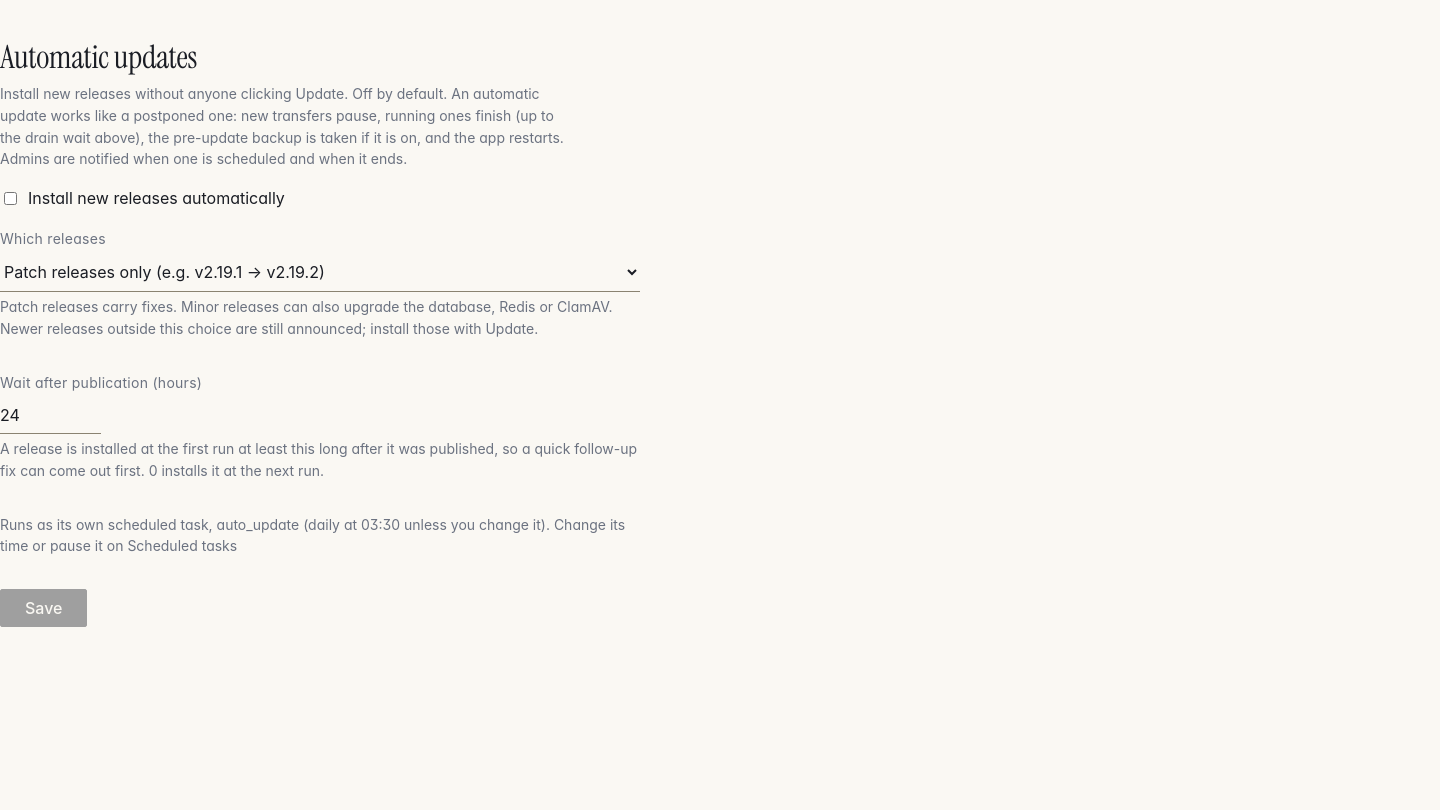
Test: AutoUpdateSection › shows a wrong password inside the dialog and keeps it open
Click the checkbox with test id "auto-update-enabled" at (10, 198), box [4,192,17,205]
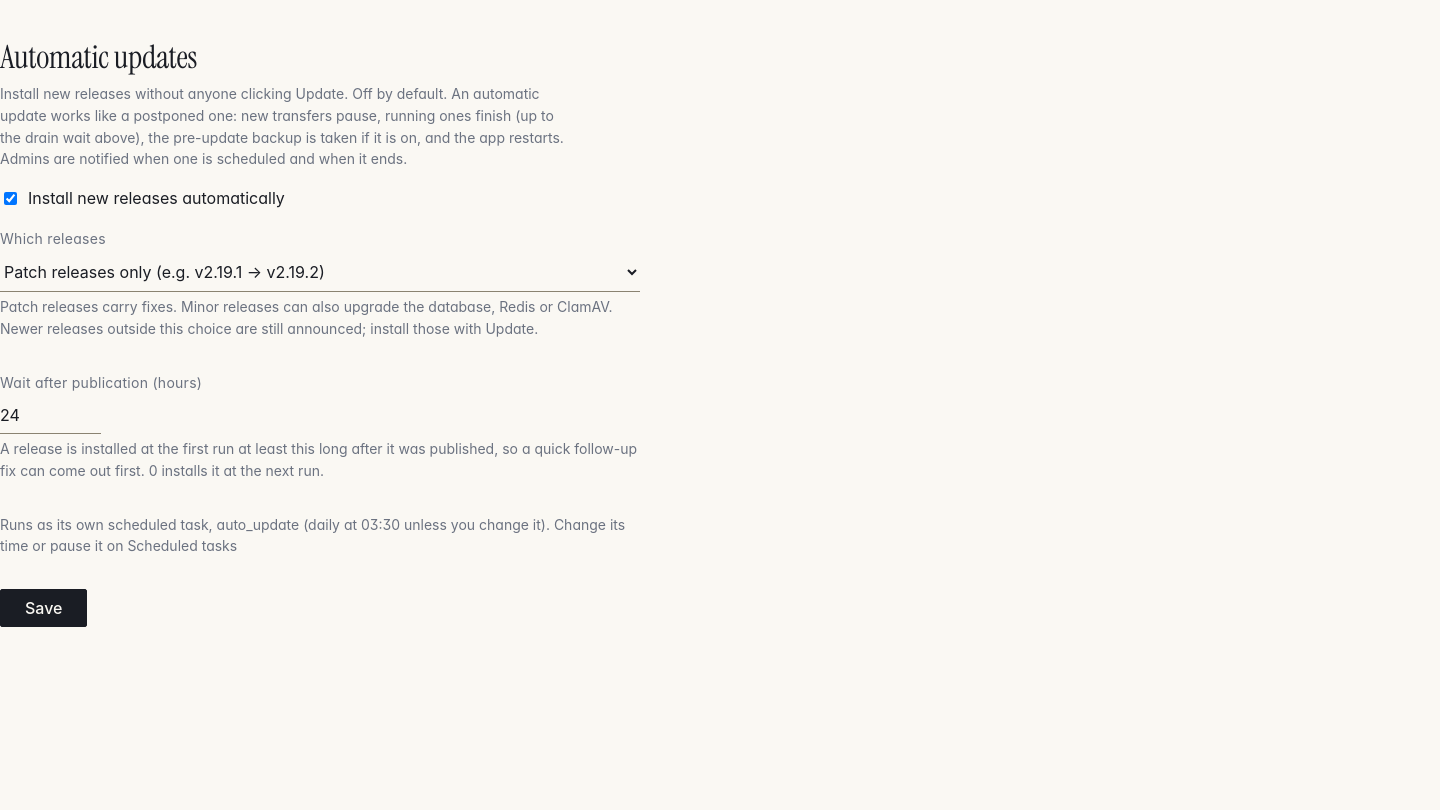
Submit the form, box [0,186,640,627]
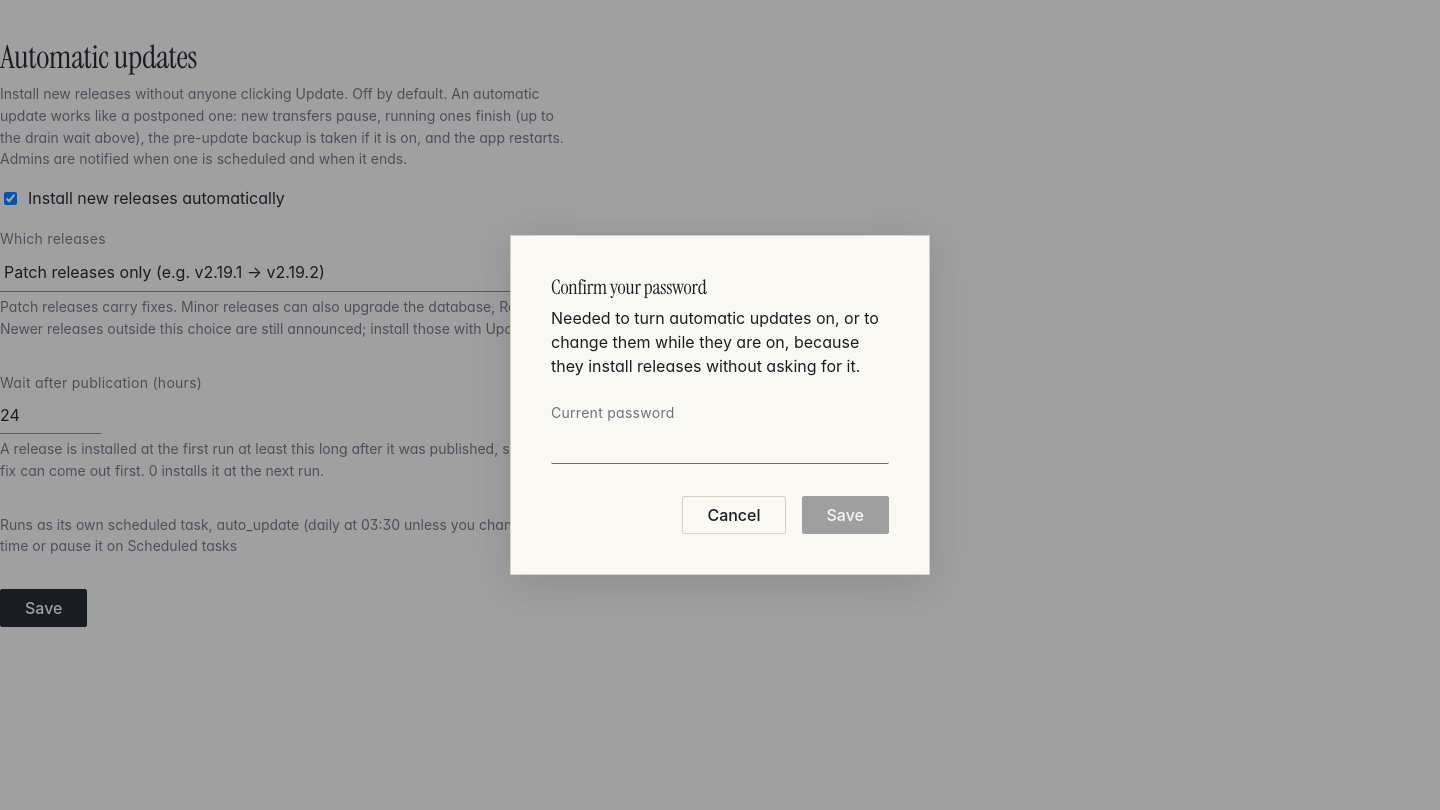
Type "nope" into the password field with test id "step-up-password" at (720, 446), box [551,427,889,464]
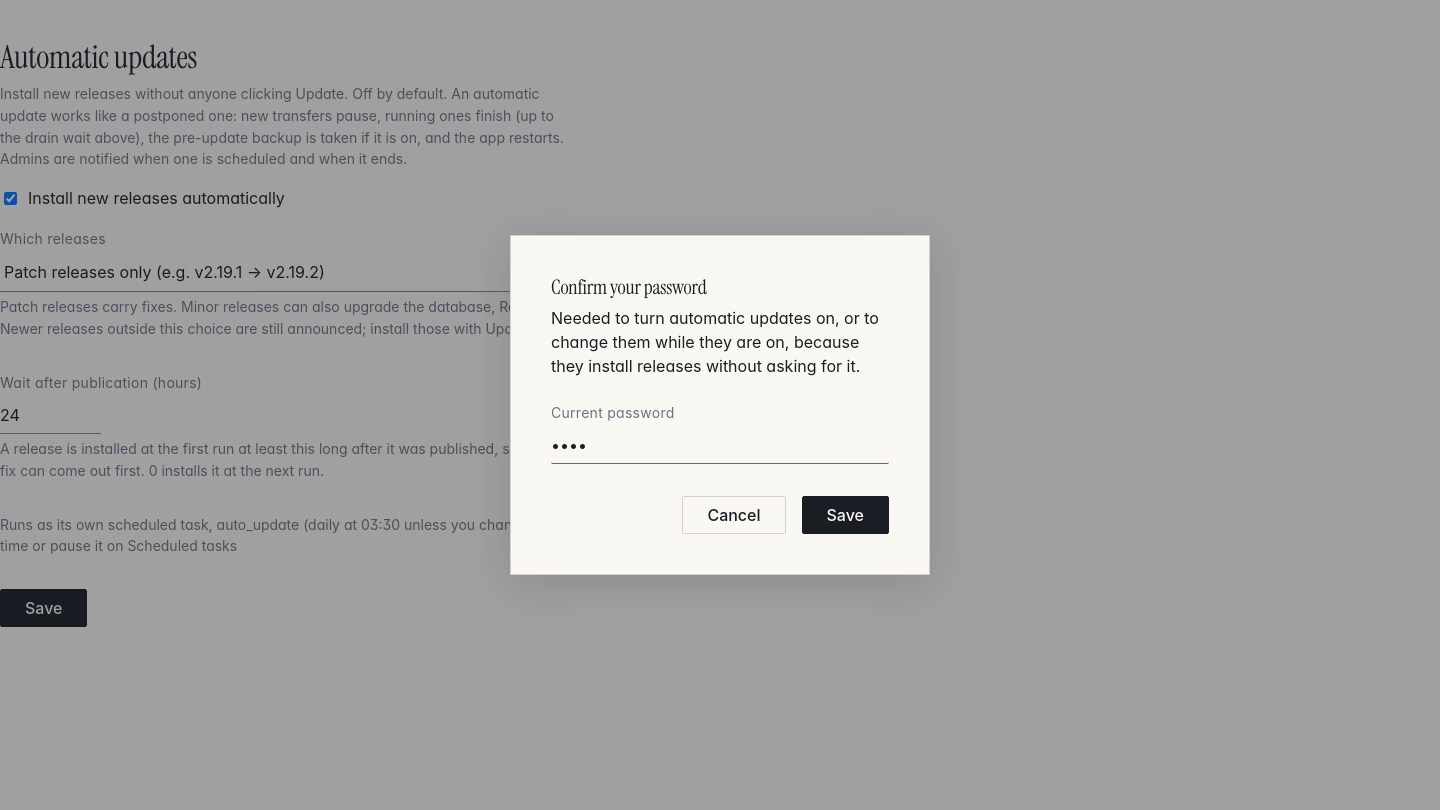
Submit the form "Current password Cancel Save", box [551,402,889,534]
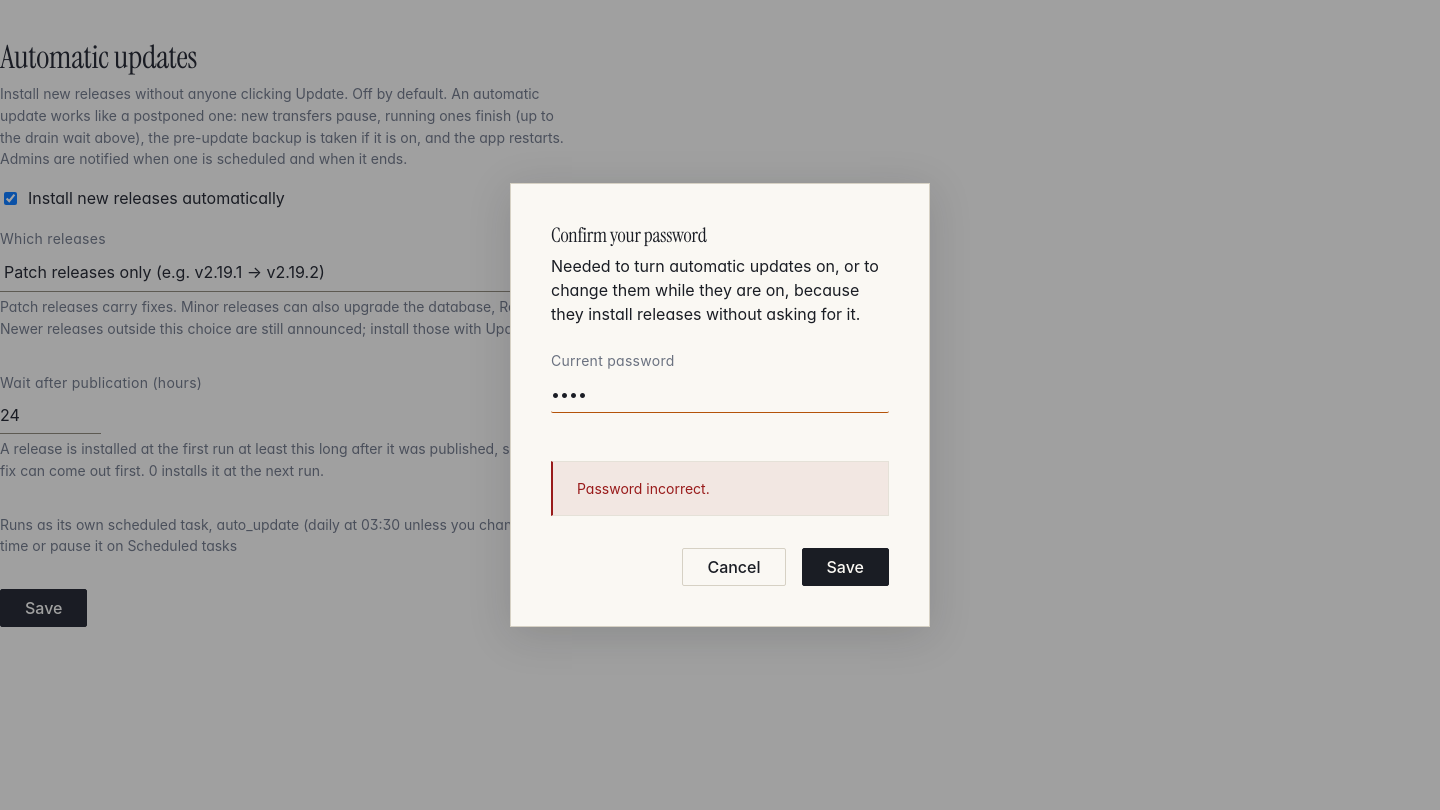
Check: the dialog with test id "step-up-dialog" is shown
Check: the message "Password incorrect." is shown, box [551,460,889,516]
